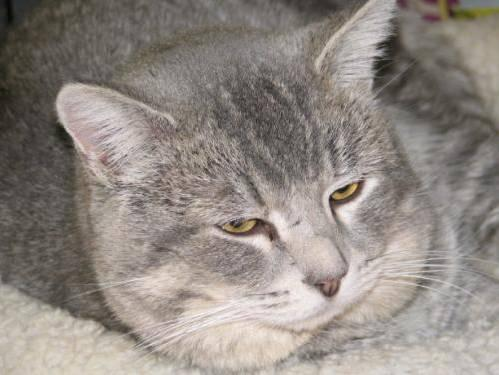cat: (0, 0, 498, 368)
